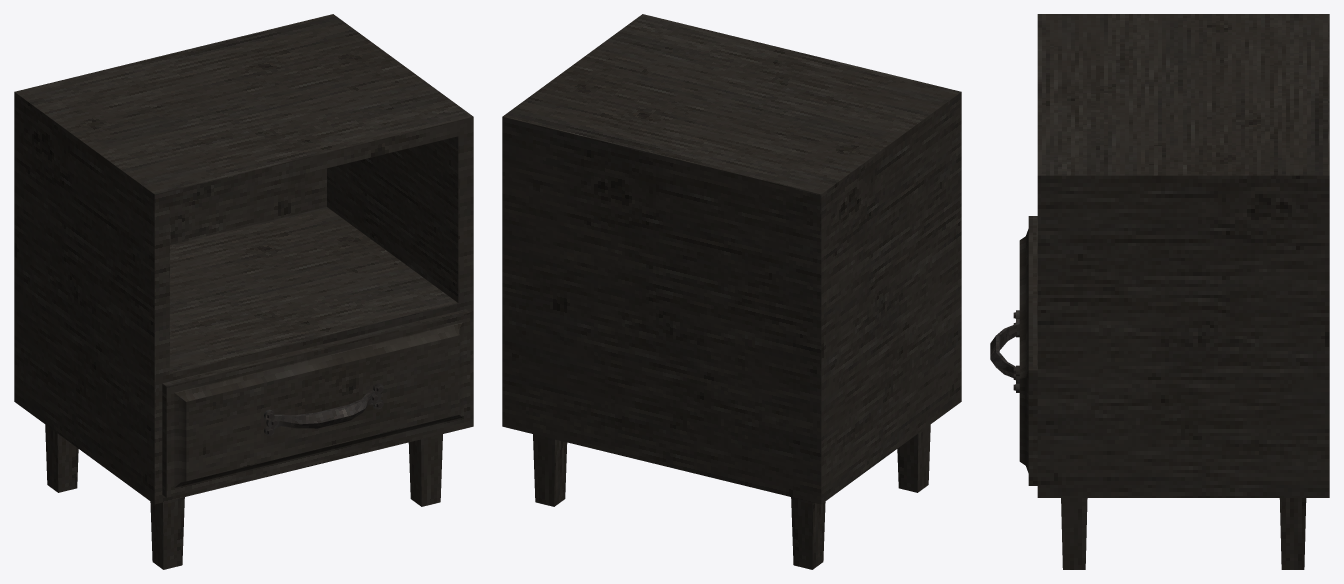
Rendered from bedside_table_2.glb.
3 views of the same model, side by side, from view 1: azimuth 30°, elevation 25°; view 2: azimuth 150°, elevation 25°; view 3: azimuth 270°, elevation 25° (orthographic). The views are drawn at different scales.
Visible parts, largest first — view 1: bedside_table_2, bedside_table_2_drawer; view 2: bedside_table_2; view 3: bedside_table_2, bedside_table_2_drawer.
Part boxes in pixels (box(x1,y1,x2,y2)): bedside_table_2: box(14, 14, 473, 569); bedside_table_2_drawer: box(162, 309, 470, 497); bedside_table_2: box(502, 14, 961, 569); bedside_table_2: box(1037, 14, 1329, 569); bedside_table_2_drawer: box(990, 216, 1037, 485).
Bounding box in the file's own units: 0.504 × 0.588 × 0.4463.
2 materials, 2 textured.
